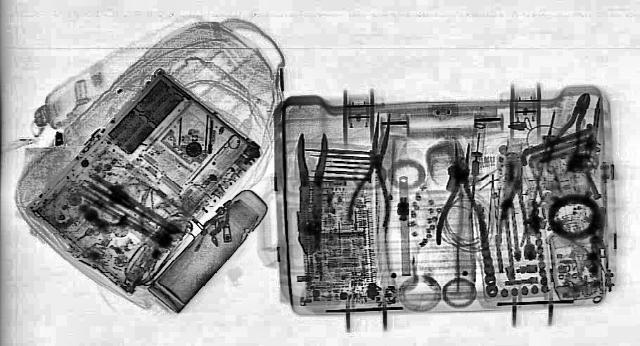Pliers: (344, 111, 406, 225), (430, 142, 496, 246), (536, 90, 606, 168), (294, 133, 326, 253)
